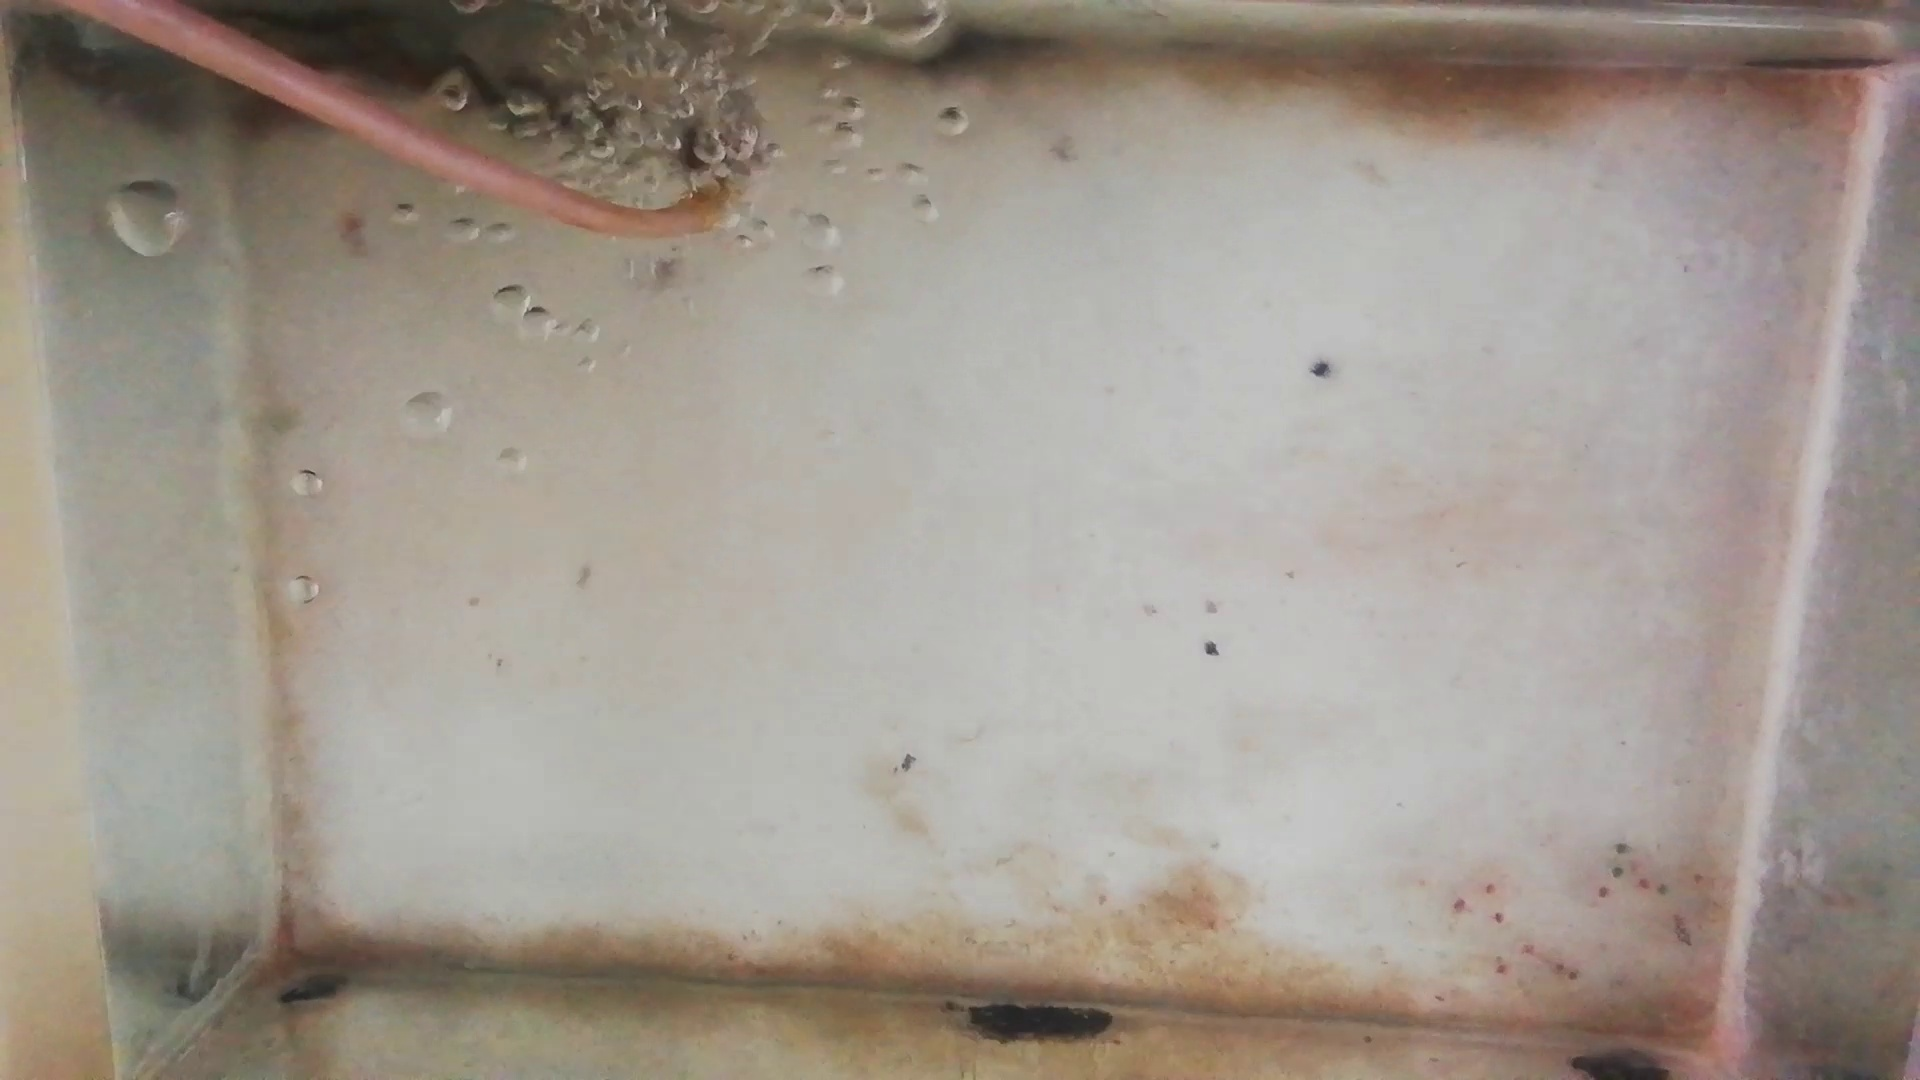fish: (464, 79, 609, 142), (214, 92, 305, 138)
